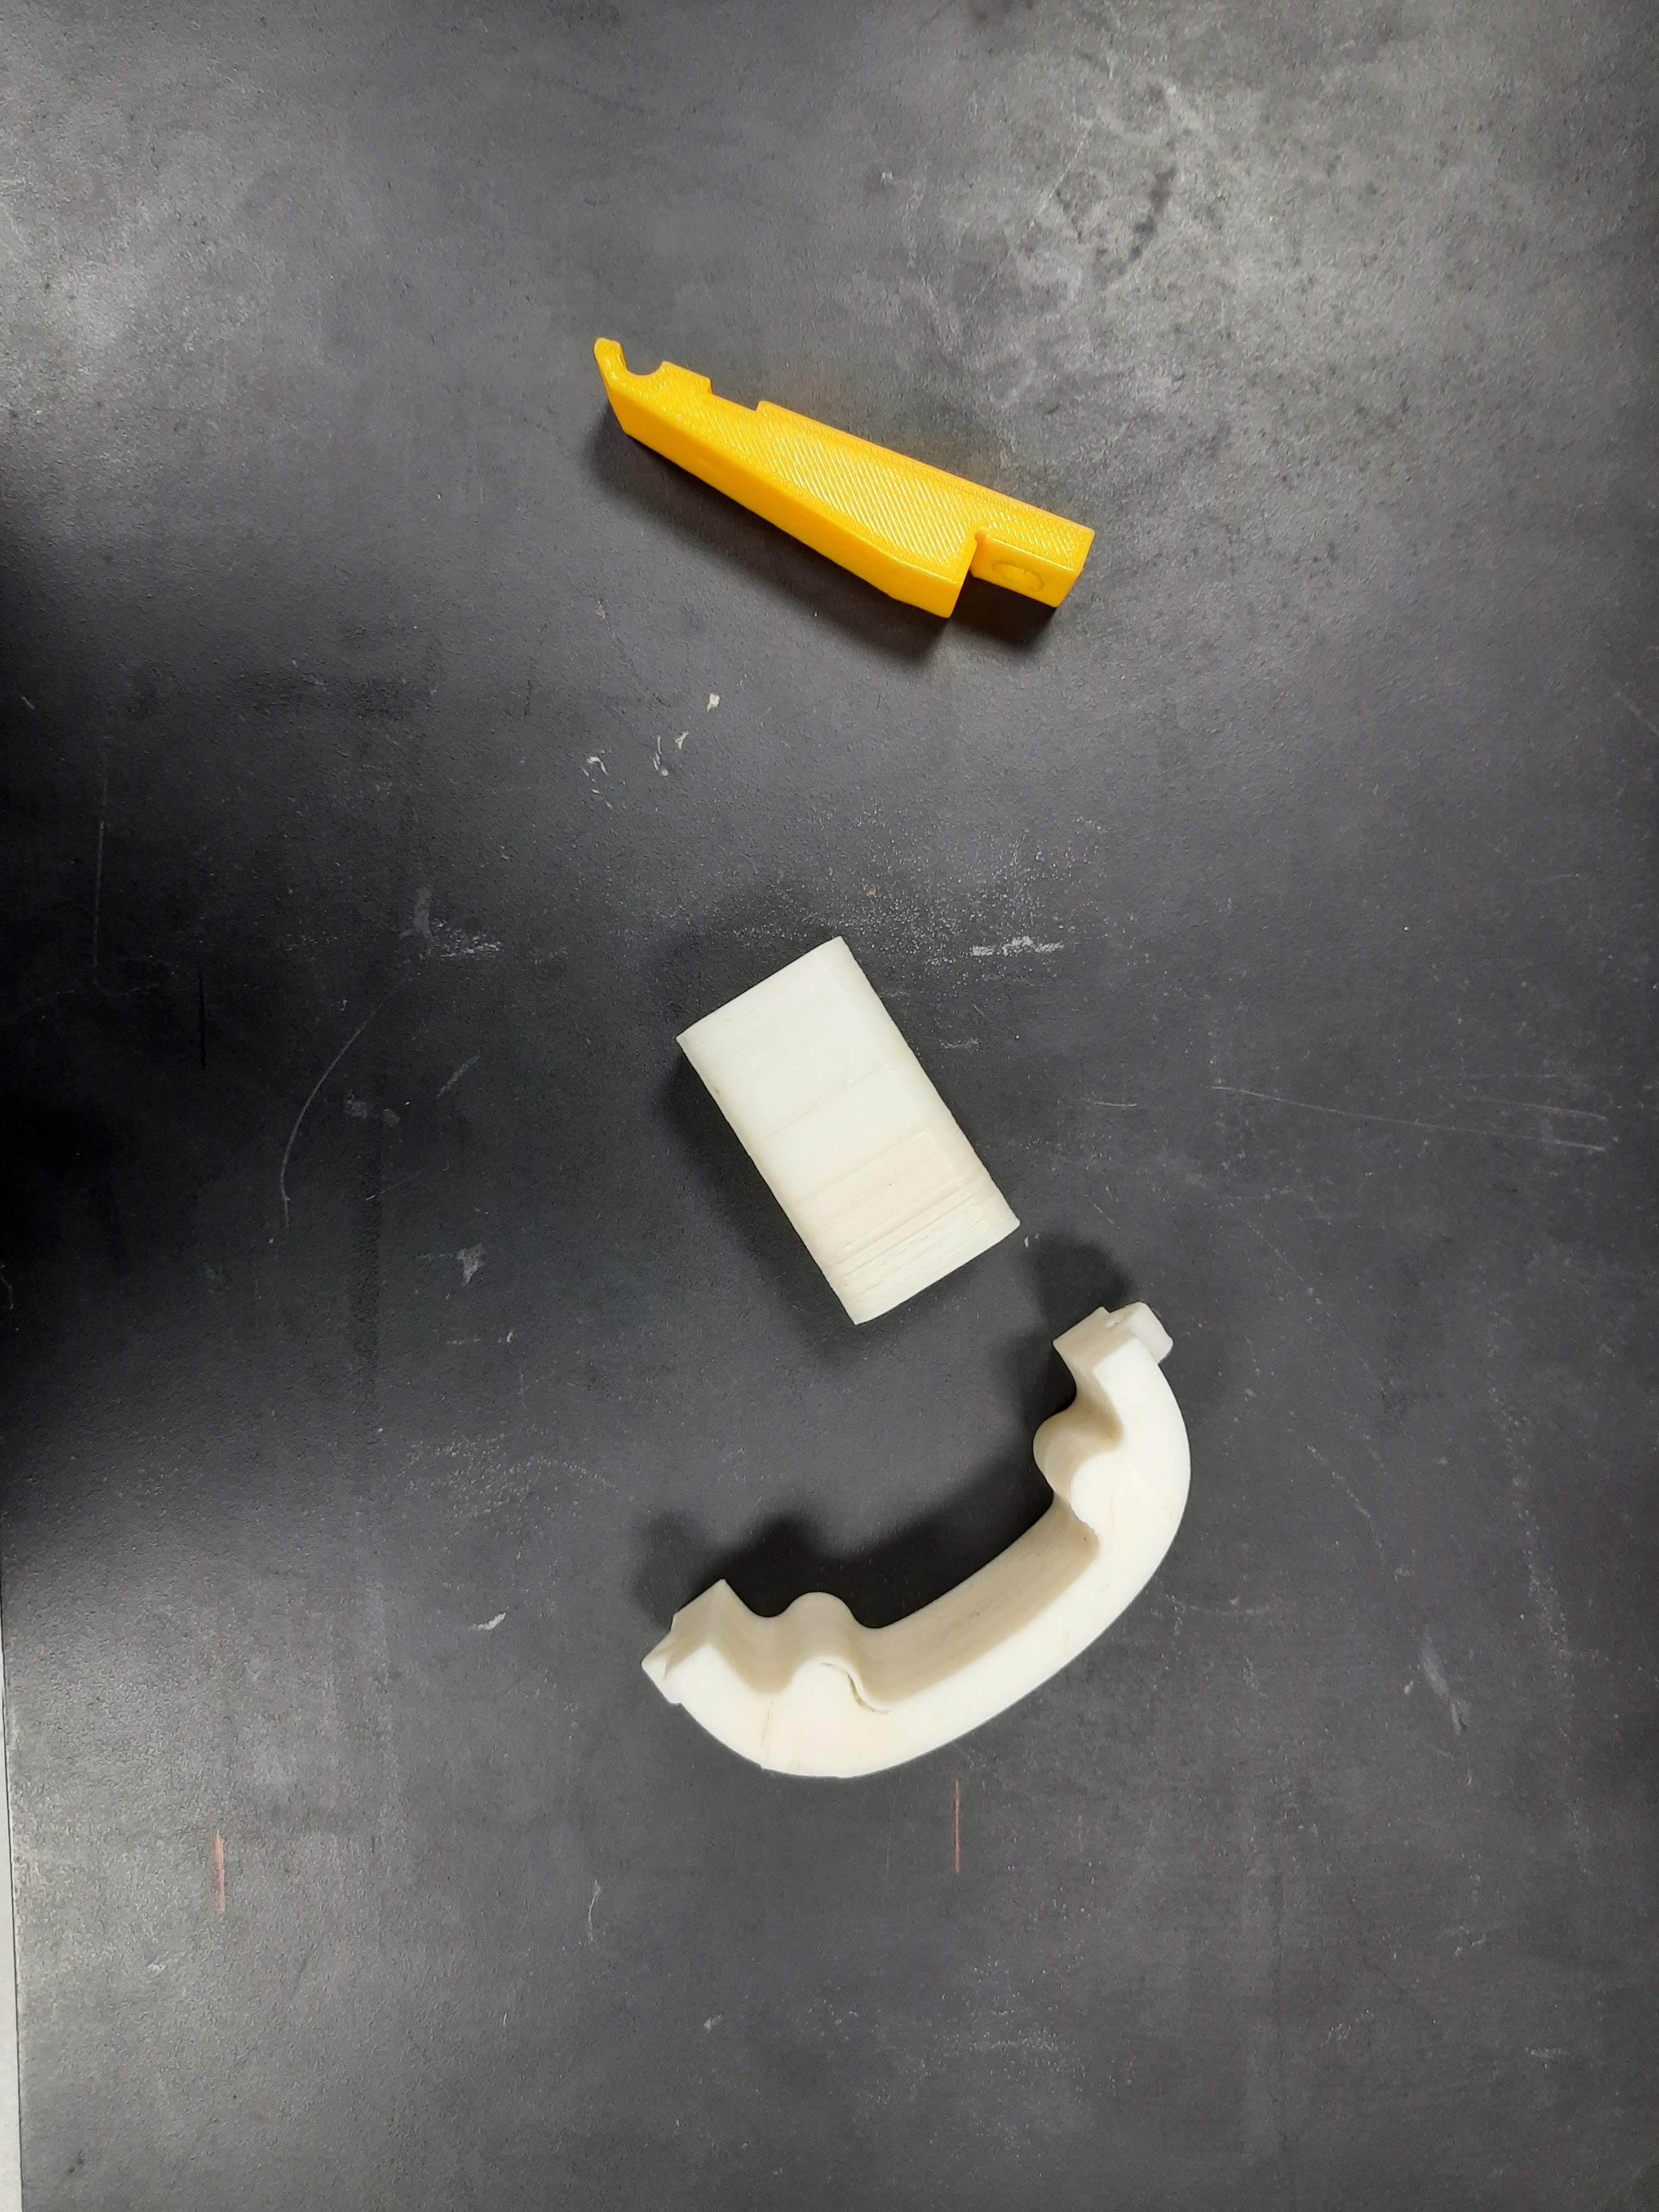ARC: (598, 1242, 1303, 1876)
CUBE: (678, 939, 1012, 1320)
YELLOW: (538, 324, 1098, 658)
